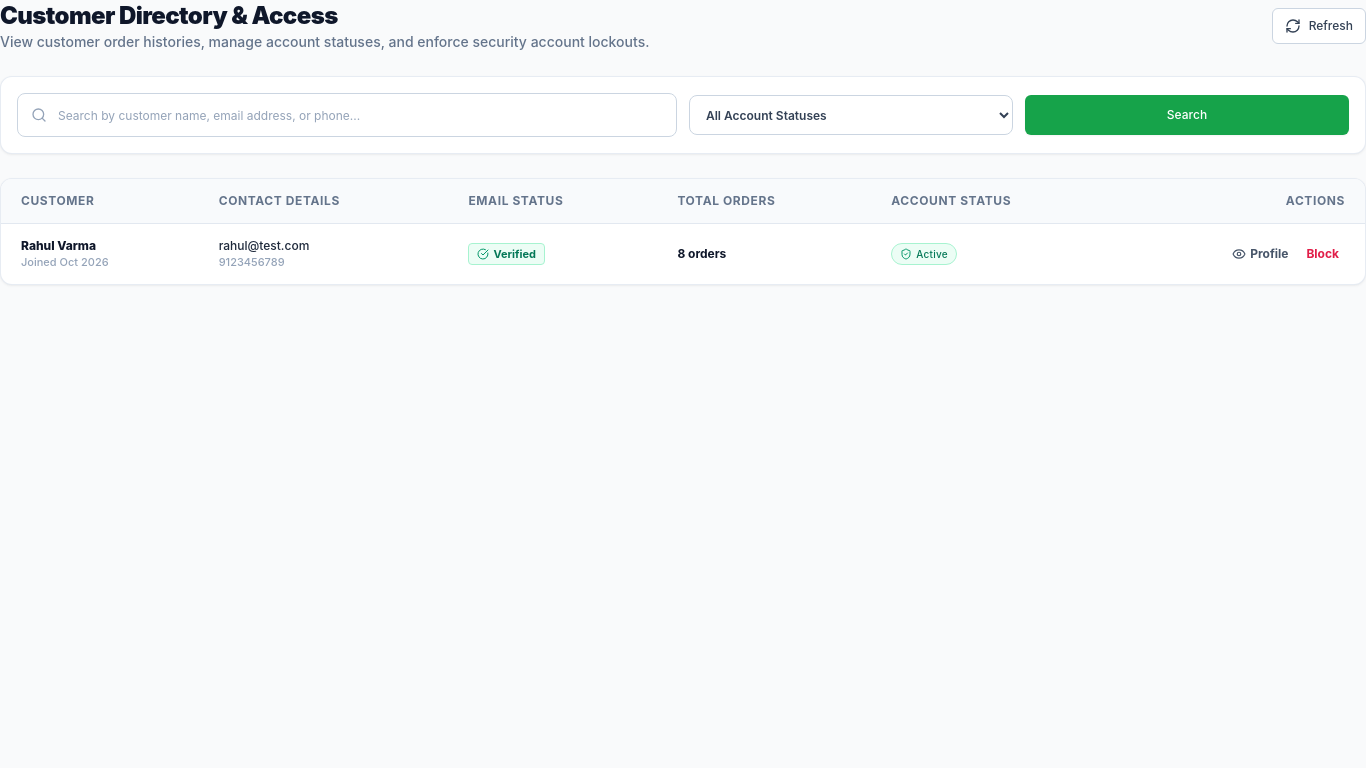
Test: Phase 9: Admin Backoffice UI Components & Flows › AdminCustomersPage › renders customers list and opens block confirmation modal
The image size is (1366, 768).
Expected: the text "Rahul Varma" is shown, [21,238,96,253]
Expected: the text "rahul@test.com" is shown, [219,238,309,253]
Open Block Modal
Step 1. Click the button "Block" → (1323, 254), box [1300,240,1345,268]
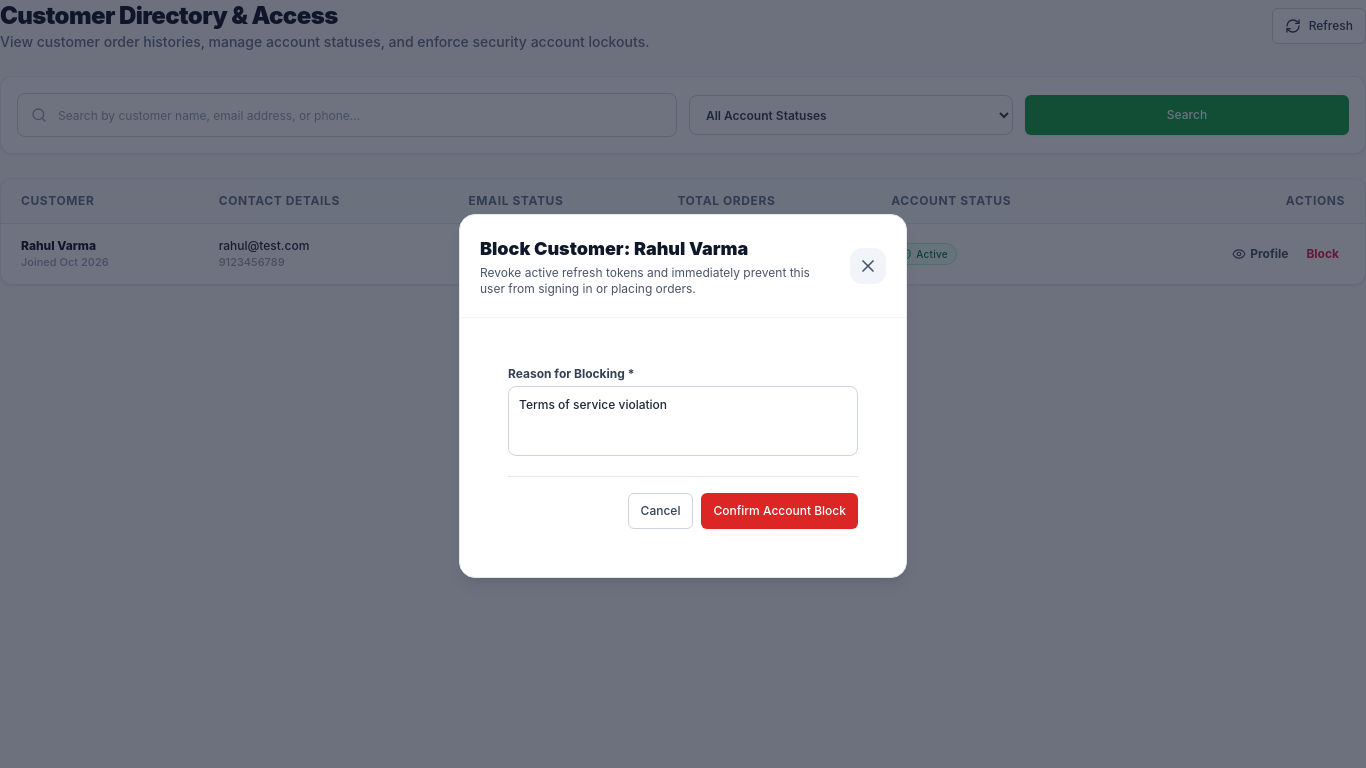
Expected: the heading "Block Customer: Rahul Varma" is shown, [480,238,748,259]
Expected: the text "Confirm Account Block" is shown, [713,503,846,519]
